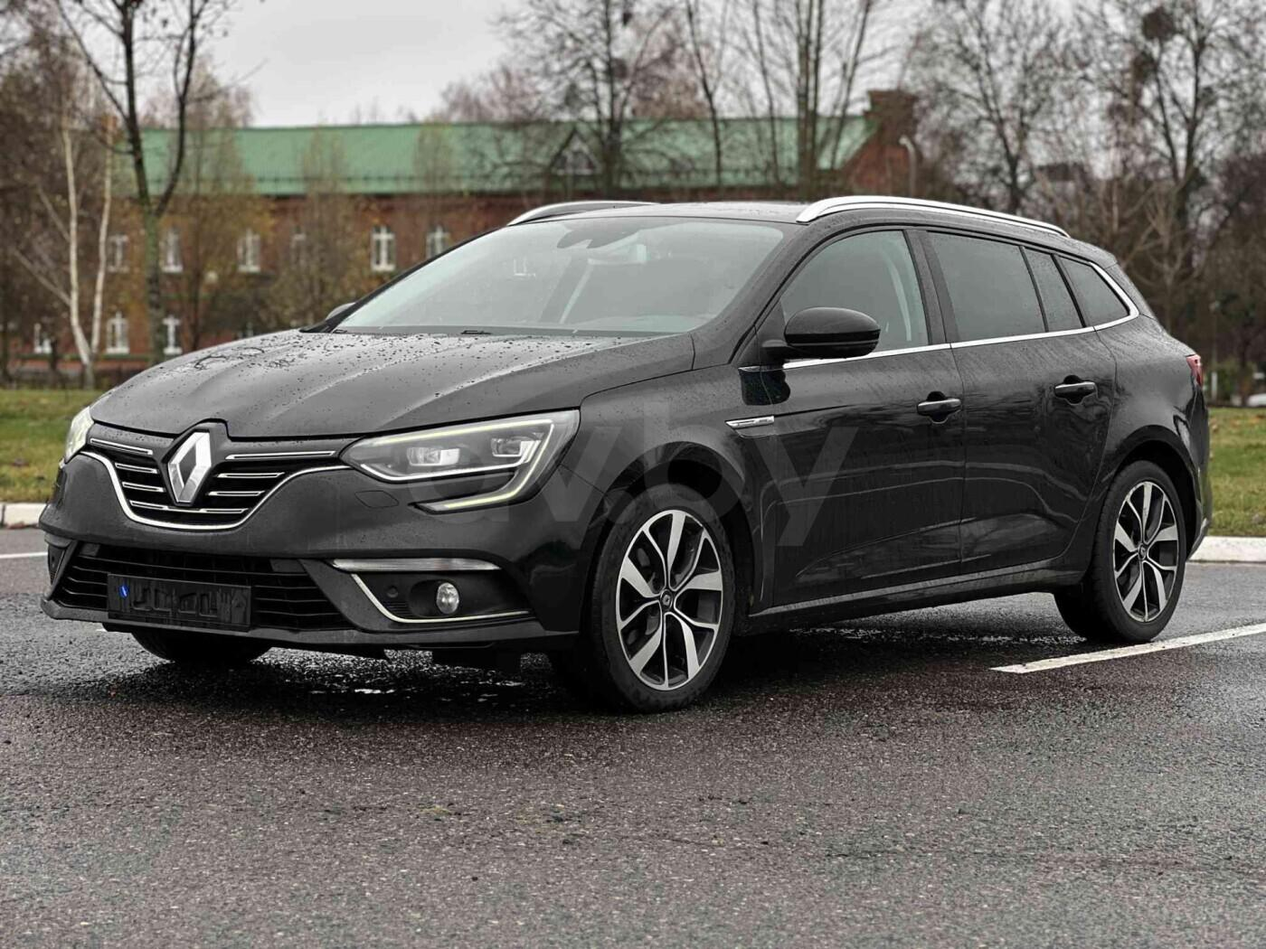Megane_2016-2020: (36, 196, 1209, 728)
